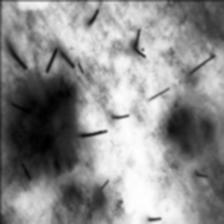Potentially Malignant Skin Tumors: (12, 75, 69, 182), (154, 98, 212, 170), (45, 178, 125, 224)
